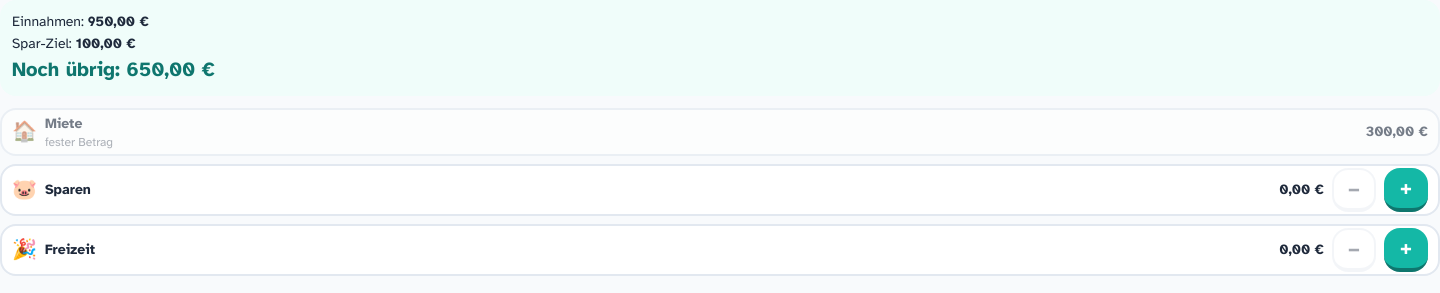
Test case: Budget › Stepper rechnet in 10-Euro-Schritten und geht nicht unter 0
Expected: the button named "Weniger für Sparen" is disabled, [1332,168,1376,212]
Step 1. Click the button named "Mehr für Sparen" → (1406, 190), box [1384,168,1428,212]
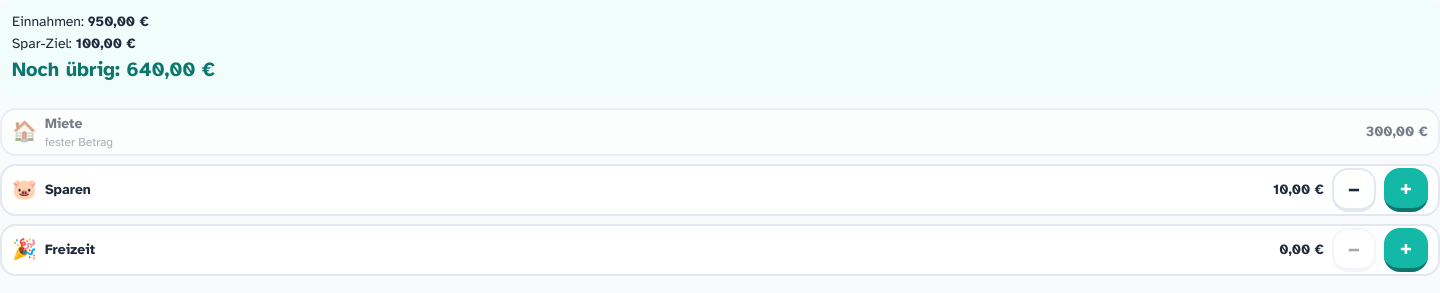
Step 2. Click the button named "Mehr für Sparen" → (1406, 190), box [1384,168,1428,212]
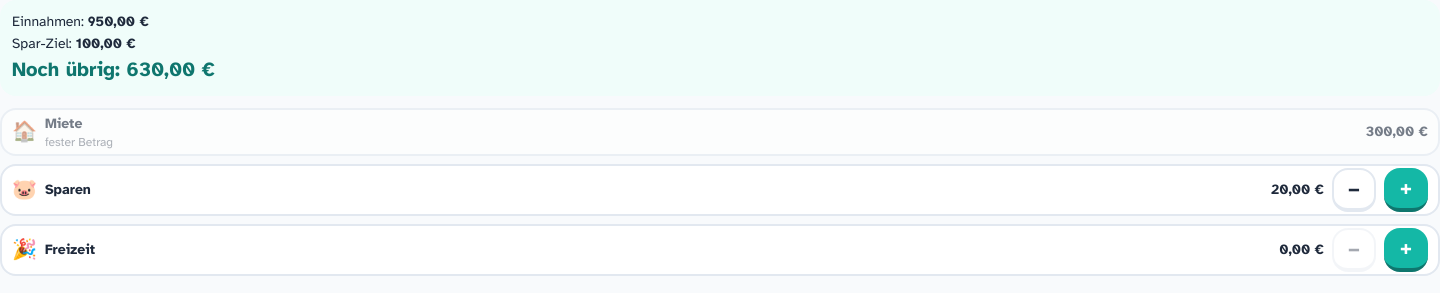
Result: the text "20,00 €" is shown at [1271,181,1324,198]
Step 3. Click the button named "Weniger für Sparen" → (1354, 190), box [1332,168,1376,212]
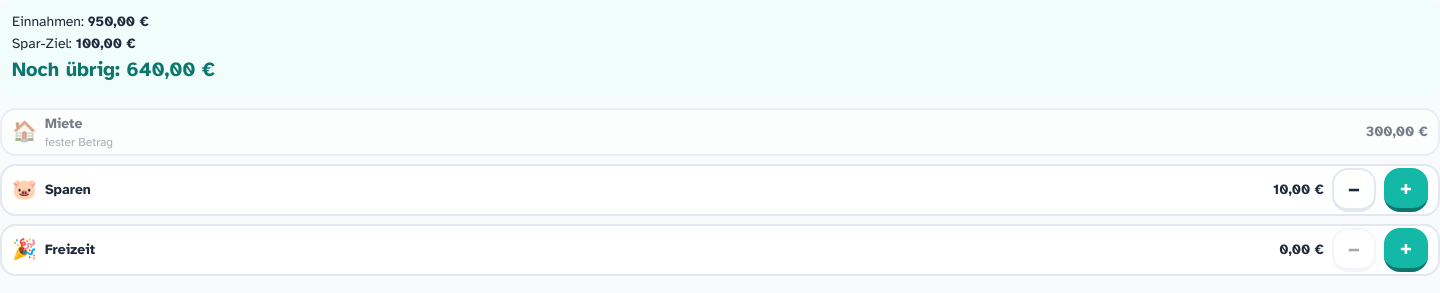
Step 4. Click the button named "Weniger für Sparen" → (1354, 190), box [1332,168,1376,212]
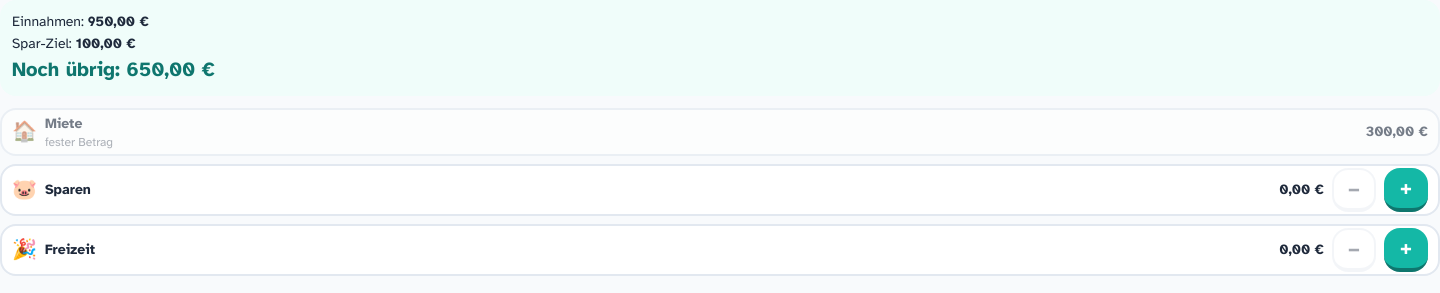
Result: the button named "Weniger für Sparen" is disabled at [1332,168,1376,212]
